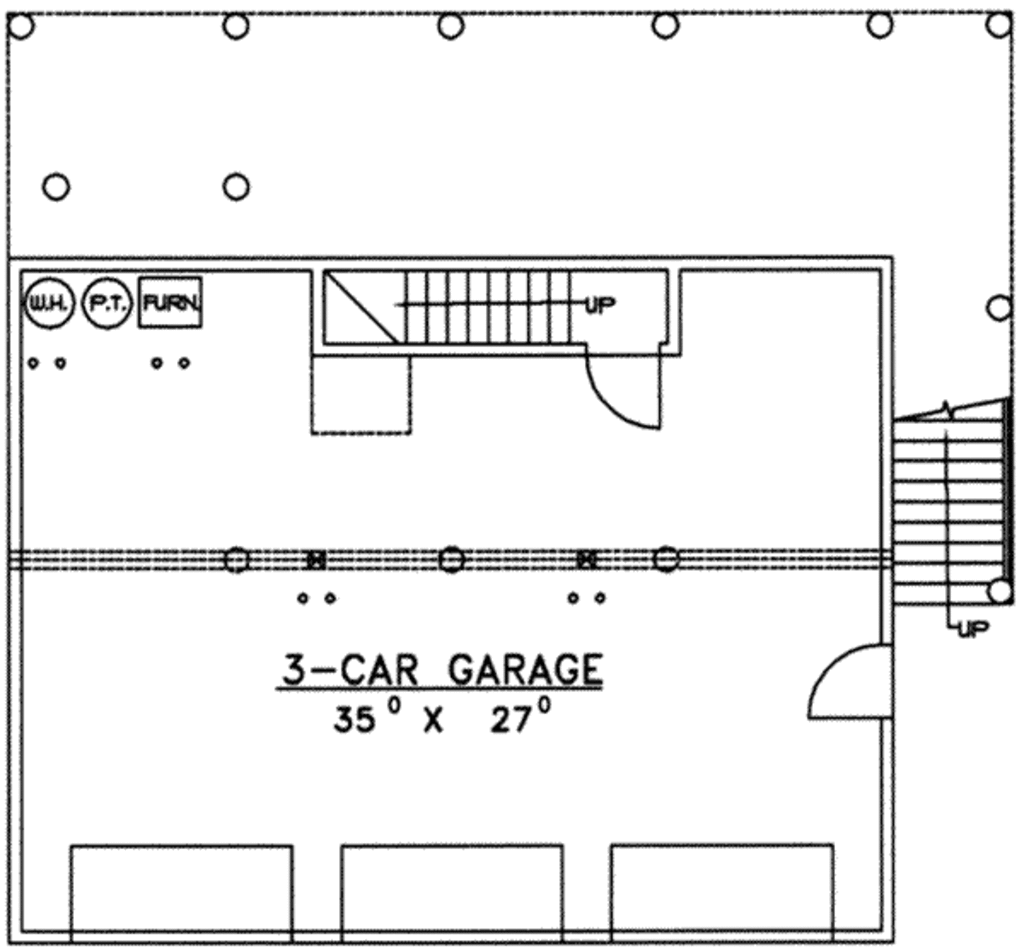door: (789, 637, 905, 727), (570, 343, 668, 440)
stairs: (891, 380, 1013, 627), (411, 267, 676, 346)
